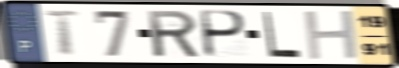7: (91, 8, 133, 59)
H: (301, 8, 362, 62)
L: (261, 10, 303, 59)
P: (201, 8, 250, 60)
R: (145, 9, 203, 59)
T: (42, 9, 84, 57)
